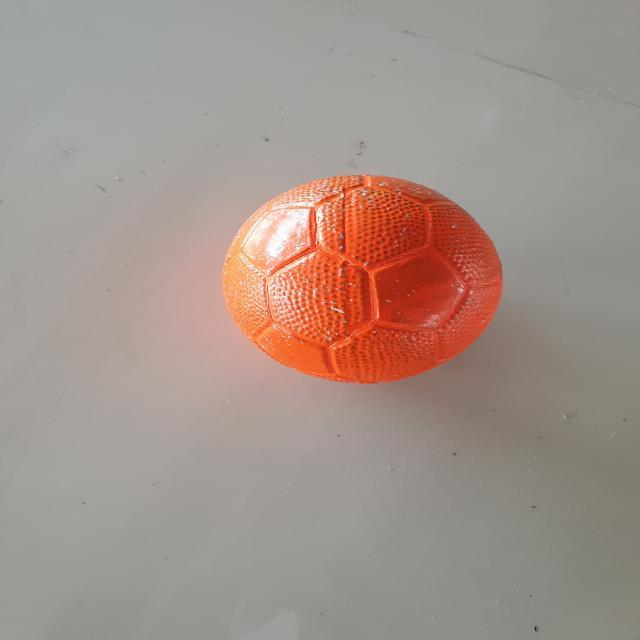bola: (201, 164, 516, 389)
